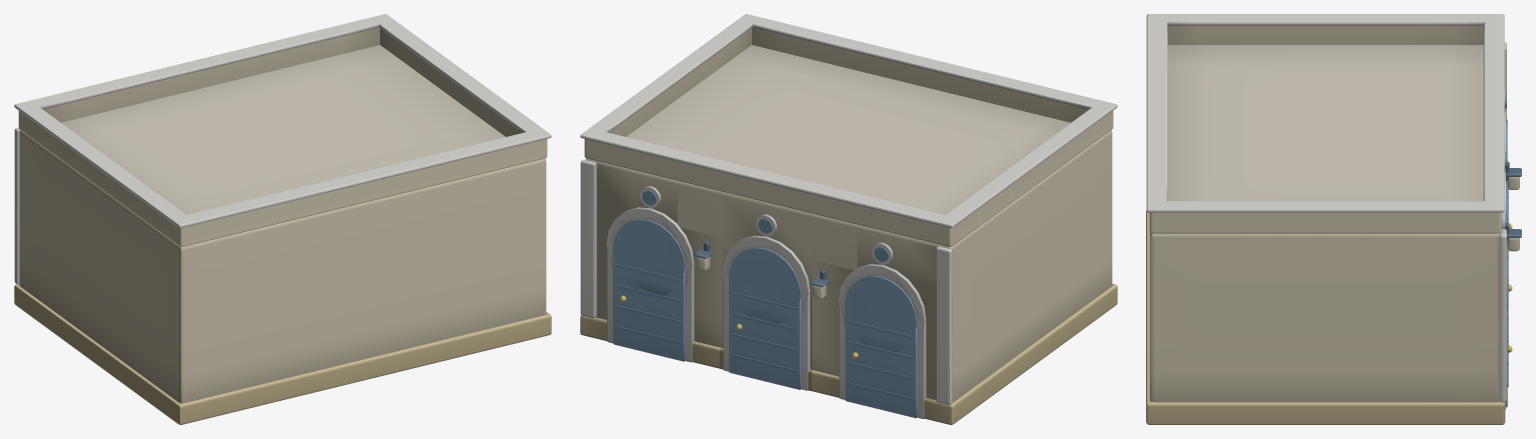
Rendered from warehouse_b.glb.
3 views of the same model, side by side, from view 1: azimuth 30°, elevation 25°; view 2: azimuth 150°, elevation 25°; view 3: azimuth 270°, elevation 25° (orthographic). The views are drawn at different scales.
Parts seen in each view (by area): view 1: warehouse_b; view 2: warehouse_b; view 3: warehouse_b.
Boxes of the visible parts, <box> form: warehouse_b: <box>14,14,551,424</box>; warehouse_b: <box>580,14,1117,424</box>; warehouse_b: <box>1146,14,1521,424</box>.
Bounding box in the file's own units: 7.56 × 3.88 × 6.11.
